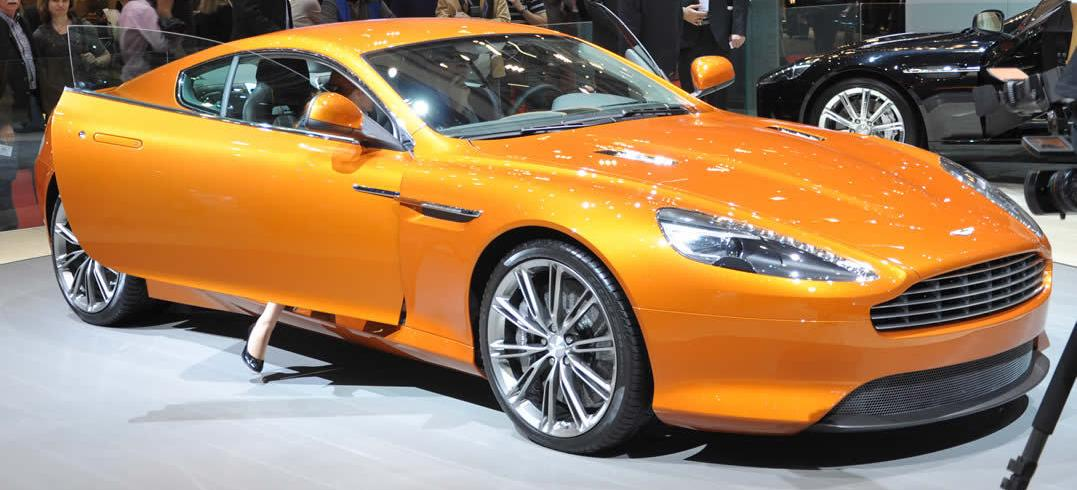front_view: (624, 161, 1056, 449)
headlight: (652, 201, 875, 297)
side_glass: (185, 44, 395, 143)
